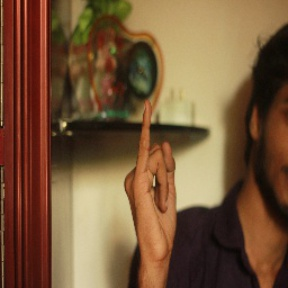I: (116, 97, 189, 248)
